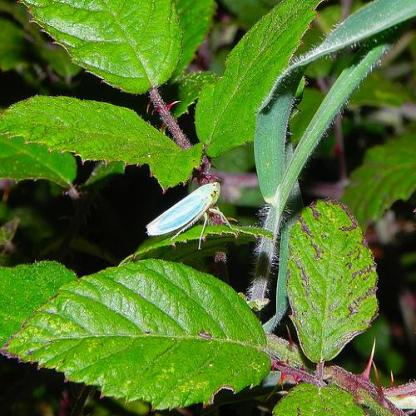Green-Leafhopper: (144, 180, 238, 252)
